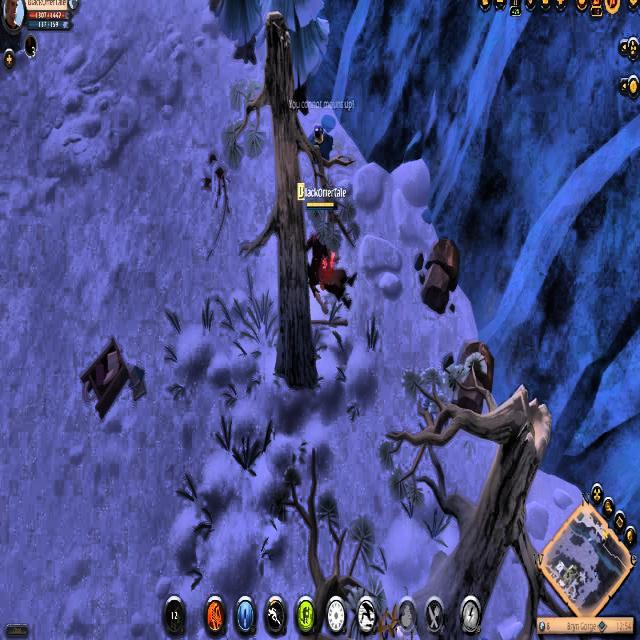copperore: (306, 119, 335, 163)
limestone: (418, 234, 462, 314), (450, 337, 493, 415)
